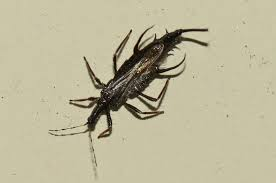Phlaeothripidae: (48, 25, 210, 167)
